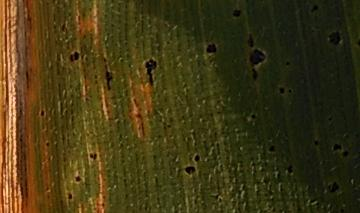tarspot: (100, 57, 114, 93), (144, 59, 158, 87), (248, 48, 267, 67), (326, 29, 341, 46), (325, 181, 340, 195), (244, 30, 255, 49), (204, 42, 218, 55), (68, 51, 80, 63), (230, 8, 243, 19), (250, 67, 259, 82), (183, 165, 196, 175), (309, 3, 319, 14), (331, 142, 342, 152), (285, 164, 294, 176), (277, 85, 286, 96), (88, 152, 98, 161), (267, 144, 277, 153), (193, 154, 201, 163), (73, 174, 81, 183), (341, 150, 350, 158), (66, 193, 74, 201), (312, 139, 320, 147), (249, 113, 257, 120), (355, 37, 360, 48), (39, 108, 45, 117), (283, 60, 291, 66), (44, 141, 50, 148), (286, 88, 293, 94), (338, 207, 345, 213), (327, 115, 333, 121), (217, 197, 223, 203)
